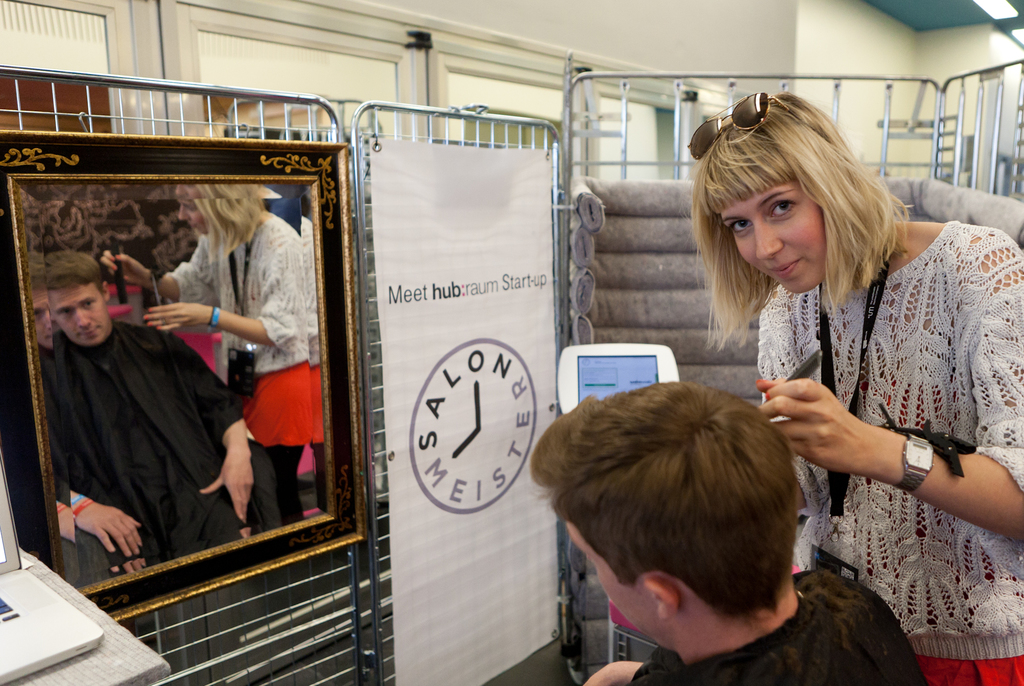Human_hand: (760, 377, 863, 472), (577, 660, 635, 685)
